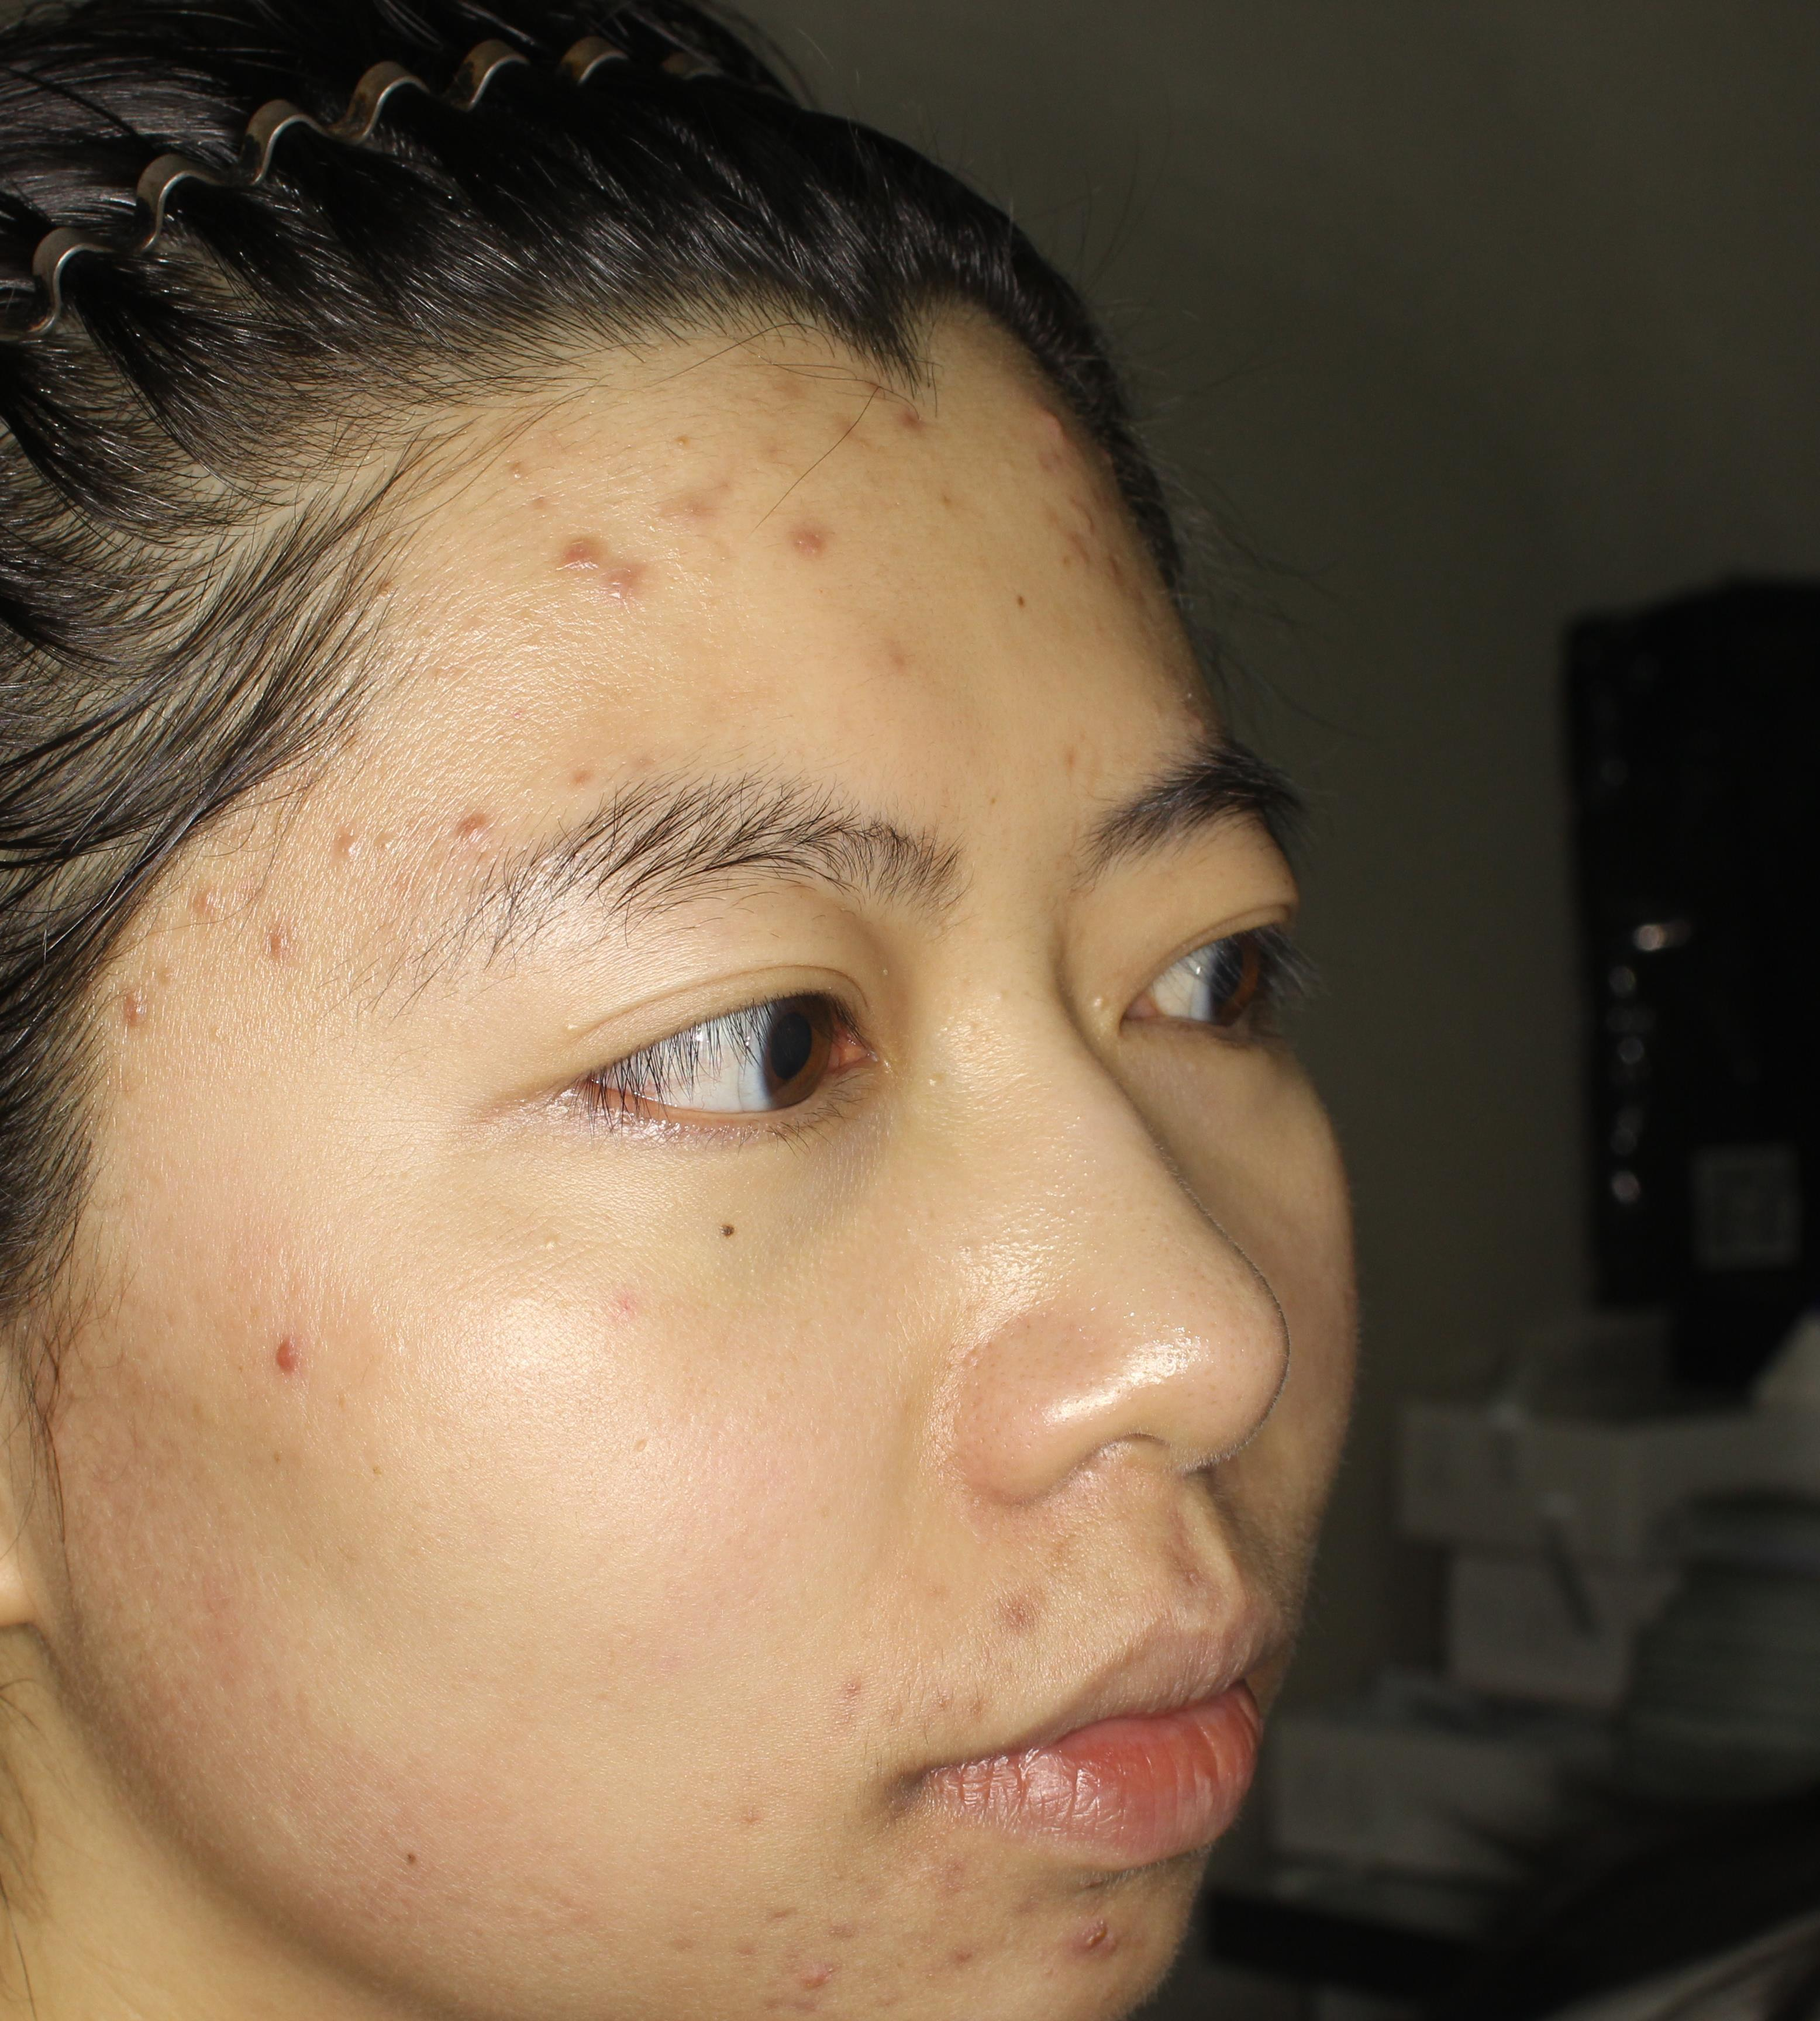fore: (646, 469, 768, 558), (768, 1926, 866, 2007), (525, 509, 606, 604), (251, 908, 323, 1003), (1051, 1898, 1138, 1975), (453, 792, 522, 855), (176, 838, 221, 904), (799, 506, 843, 567)
